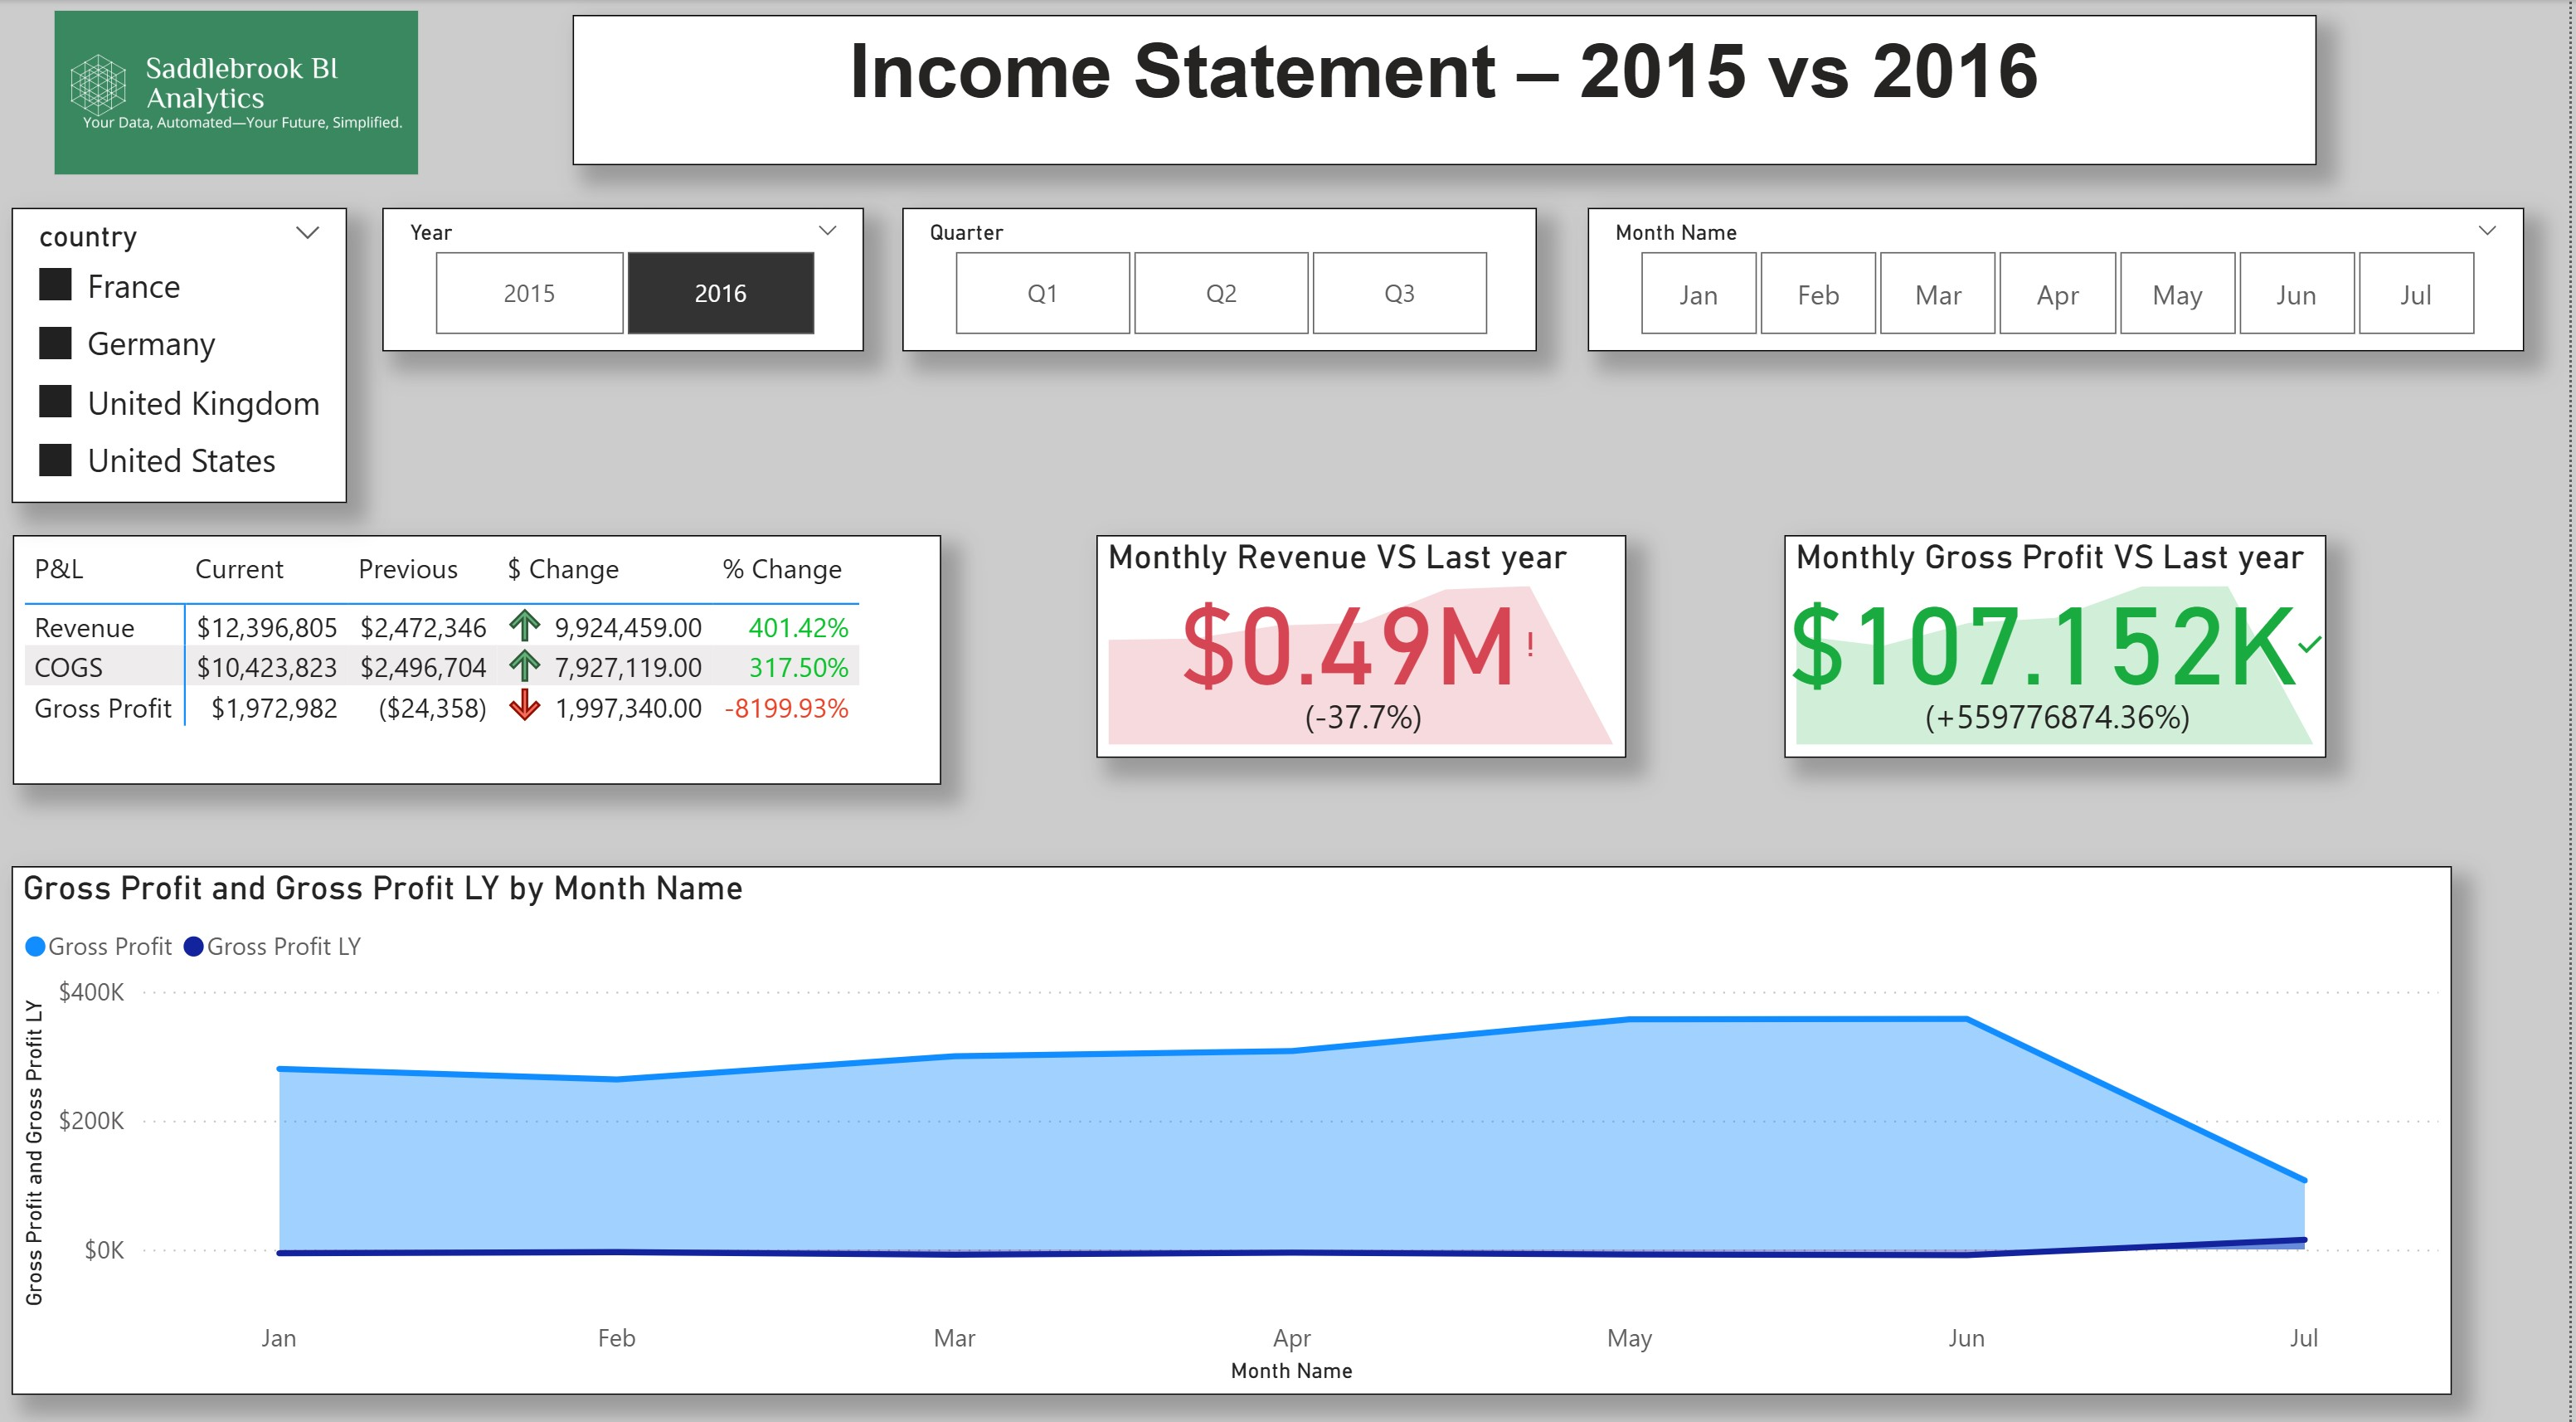

This screenshot's page, from the dashboard's own definition file:
{"tool":"powerbi","page":{"name":"P&L Dashboard","canvas":[1280,720],"ordinal":0},"visuals":[{"type":"pivotTable","fields":{"Rows":["IS_Lines.Line Name"],"Values":["fact_sales.IS Value","fact_sales.Previous","fact_sales.$ Change","fact_sales.% Change"]},"box":[9.5,265.9,461.2,124.1],"z":0},{"type":"slicer","fields":{"Values":["Date.Quarter"]},"box":[451,103.1,315.4,71.2],"z":1},{"type":"slicer","fields":{"Values":["Date.Month Name"]},"box":[792.1,103.1,465.3,71.2],"z":2},{"type":"slicer","fields":{"Values":["Date.Year"]},"box":[192.6,103.1,239.4,71.2],"z":3},{"type":"slicer","fields":{"Values":["fact_sales.country"]},"box":[8.8,103.1,166.8,146.5],"z":4},{"type":"textbox","box":[287.6,7.5,866.7,74.6],"z":5},{"type":"kpi","title":"Monthly Revenue VS Last year ","fields":{"Indicator":["fact_sales.Total Revenue"],"TrendLine":["Date.Month No"],"Goal":["fact_sales.Revenue LY"]},"box":[548,265.9,263.1,110.5],"z":6},{"type":"kpi","title":"Monthly Gross Profit VS Last year ","fields":{"TrendLine":["Date.Month No"],"Indicator":["fact_sales.Gross Profit"],"Goal":["fact_sales.Gross Margin LY"]},"box":[889.8,265.9,269.2,110.5],"z":7},{"type":"lineChart","fields":{"Y":["fact_sales.Gross Profit","fact_sales.Gross Profit LY"],"Category":["Date.Month Name"]},"box":[8.8,430,1212.6,262.5],"z":8},{"type":"image","box":[0,0,240.1,91.6],"z":9}]}

Visuals, with their boxes in screenshot pixels (x1, y1, x2, y2), scaled from the page's 1280x720 canvas onto the 2576x1422 screenshot:
pivotTable - IS_Lines.Line Name x fact_sales.IS Value: bbox(19, 525, 947, 770)
slicer - Date.Quarter: bbox(907, 203, 1543, 344)
slicer - Date.Month Name: bbox(1594, 203, 2530, 344)
slicer - Date.Year: bbox(387, 203, 869, 344)
slicer - fact_sales.country: bbox(17, 203, 353, 493)
textbox: bbox(579, 15, 2323, 162)
"Monthly Revenue VS Last year " kpi: bbox(1103, 525, 1632, 743)
"Monthly Gross Profit VS Last year " kpi: bbox(1791, 525, 2332, 743)
lineChart - fact_sales.Gross Profit x fact_sales.Gross Profit LY: bbox(17, 850, 2458, 1368)
image: bbox(0, 0, 484, 181)
